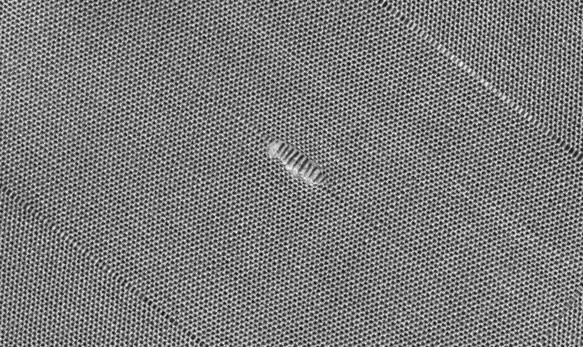slub: (266, 137, 327, 186)
